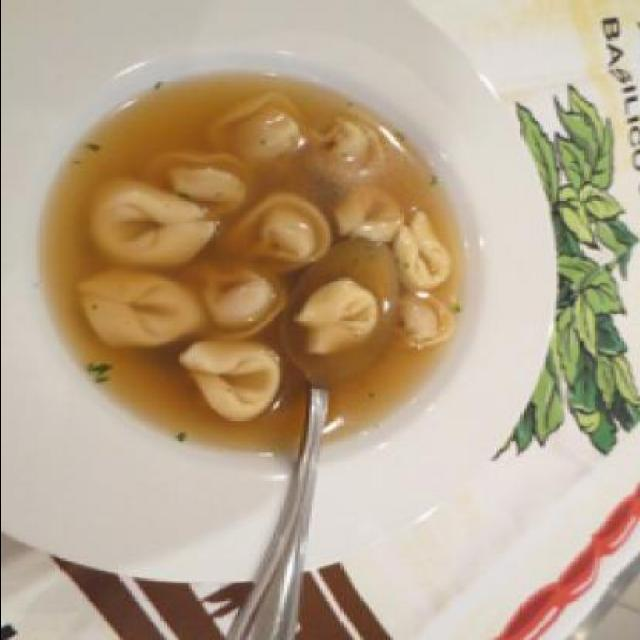Tortellini in broth: (85, 114, 463, 420)
